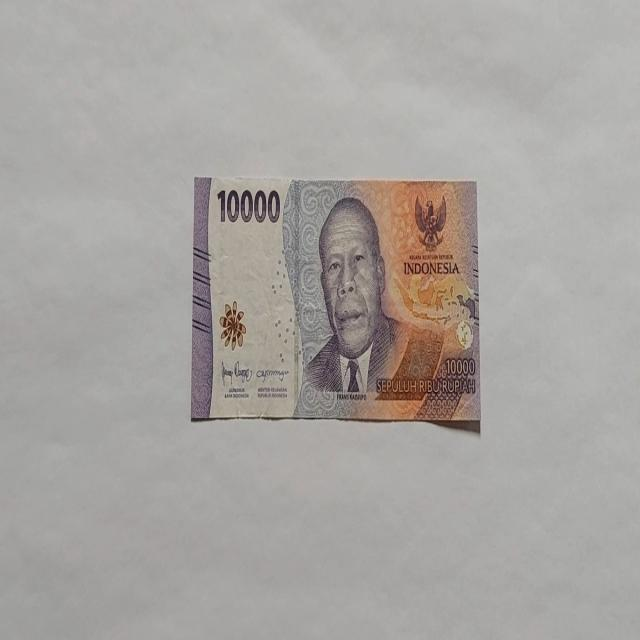sepuluh ribu rupiah: (190, 173, 480, 426)
